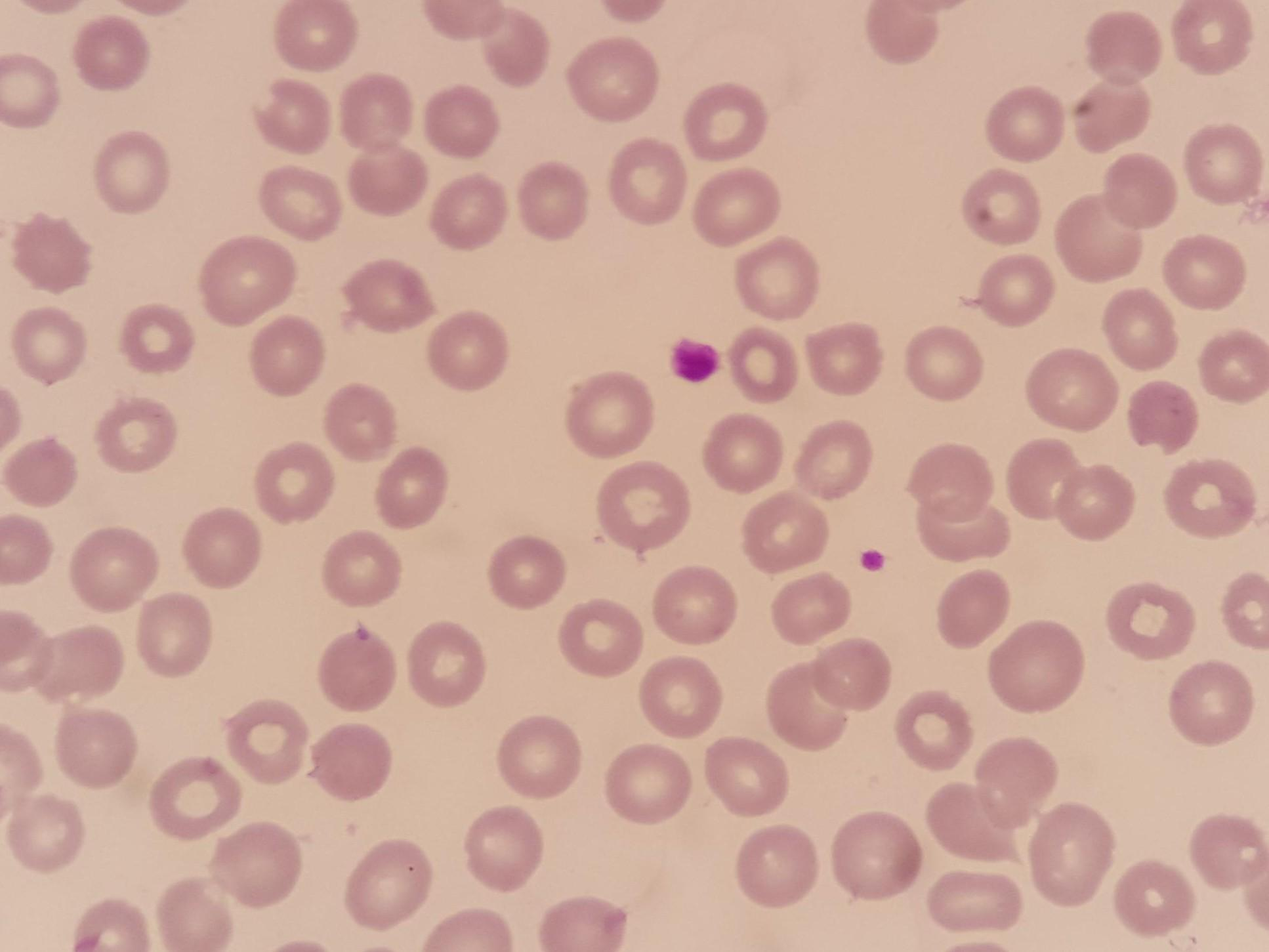Uninfected: (199, 235, 297, 325), (1028, 804, 1116, 904), (596, 462, 690, 554), (987, 621, 1082, 711), (208, 818, 303, 908), (343, 839, 433, 931), (924, 781, 1020, 865), (831, 812, 920, 901), (1163, 457, 1258, 540), (222, 698, 311, 786), (973, 736, 1060, 826), (70, 527, 160, 613), (150, 757, 242, 841), (1026, 347, 1118, 431), (905, 443, 997, 527), (567, 38, 659, 120), (766, 665, 852, 752), (1056, 196, 1144, 281), (566, 371, 655, 455), (1167, 660, 1254, 745), (742, 491, 830, 574), (1105, 581, 1195, 662), (54, 705, 139, 790), (735, 824, 821, 908), (342, 257, 436, 333), (495, 715, 581, 798), (693, 166, 781, 247), (182, 507, 266, 590), (307, 722, 393, 803), (464, 806, 545, 892), (558, 599, 645, 679), (35, 624, 123, 703), (317, 628, 399, 712), (608, 140, 689, 224), (638, 656, 722, 737), (605, 744, 690, 824), (254, 443, 336, 525), (703, 737, 787, 817), (1006, 438, 1086, 522), (683, 82, 768, 161), (1051, 465, 1137, 543), (10, 215, 92, 296), (733, 237, 816, 317), (653, 566, 737, 645), (95, 395, 180, 473), (1162, 235, 1247, 313), (407, 622, 486, 705), (1113, 861, 1197, 939), (1183, 123, 1264, 203), (427, 311, 509, 390), (322, 529, 404, 608), (136, 593, 214, 676), (770, 568, 854, 645), (794, 420, 874, 500), (253, 77, 334, 156), (702, 413, 783, 492), (961, 168, 1043, 246), (1188, 814, 1267, 894), (811, 637, 893, 714), (258, 165, 341, 241), (915, 495, 1009, 562), (925, 871, 1023, 935), (249, 316, 328, 395), (430, 174, 511, 251), (936, 569, 1013, 650), (375, 447, 450, 529), (347, 142, 429, 217), (273, 0, 358, 72), (7, 794, 85, 872), (324, 381, 401, 460), (894, 691, 973, 768), (1101, 152, 1178, 231), (11, 306, 87, 386), (985, 87, 1065, 163), (1103, 287, 1178, 368), (155, 878, 237, 952), (95, 132, 167, 215), (339, 72, 417, 148), (488, 535, 567, 610), (423, 84, 503, 158), (1073, 79, 1153, 153), (1172, 0, 1254, 72), (804, 322, 882, 396), (1086, 10, 1163, 84), (905, 326, 983, 399), (74, 17, 153, 89), (4, 435, 78, 511), (725, 326, 799, 402), (974, 254, 1052, 326), (1195, 328, 1269, 403), (120, 303, 197, 374), (517, 163, 588, 239), (1127, 379, 1199, 453), (481, 11, 550, 86), (539, 897, 626, 952), (867, 3, 945, 62), (2, 54, 62, 127), (71, 898, 149, 952), (0, 609, 49, 688), (0, 514, 52, 588), (422, 908, 509, 952), (1221, 572, 1269, 650), (0, 724, 43, 801), (423, 1, 502, 41)
